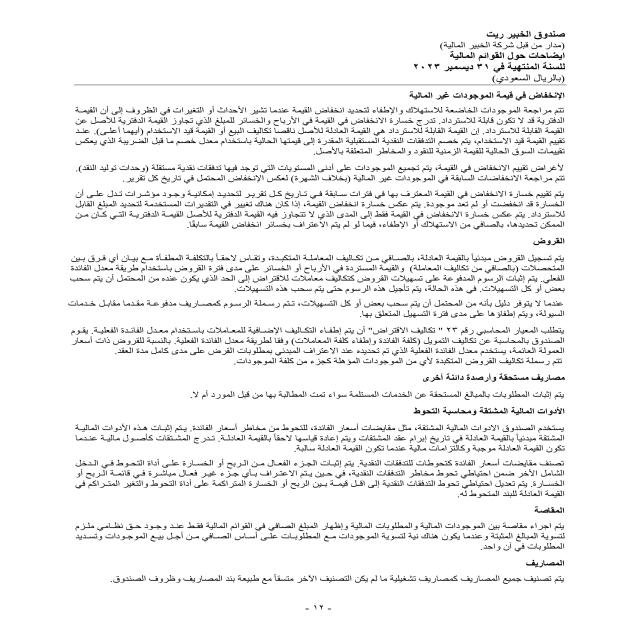notes: (433, 50, 568, 61)
text: (48, 86, 566, 593)
